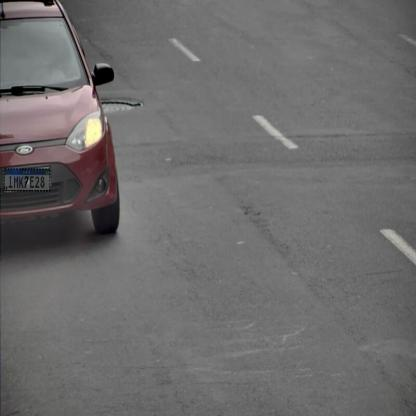PlacaM: (4, 168, 51, 192)
